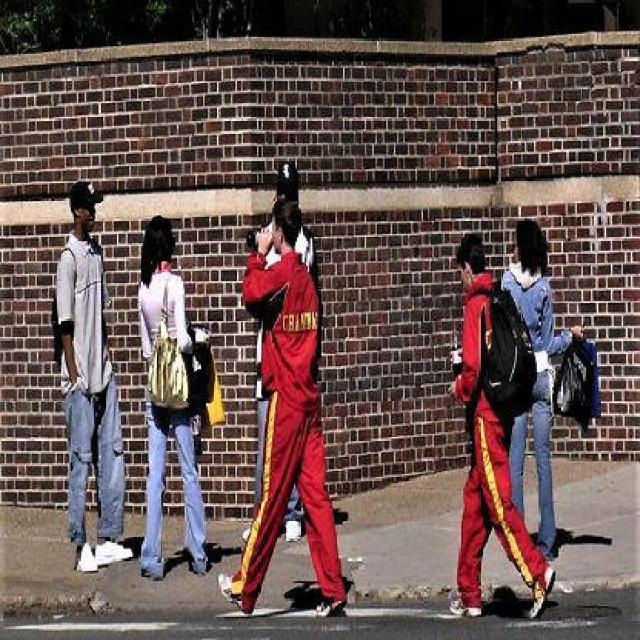Person: (225, 210, 357, 622), (442, 234, 558, 635), (36, 182, 135, 572), (124, 213, 218, 578), (502, 213, 572, 564)
